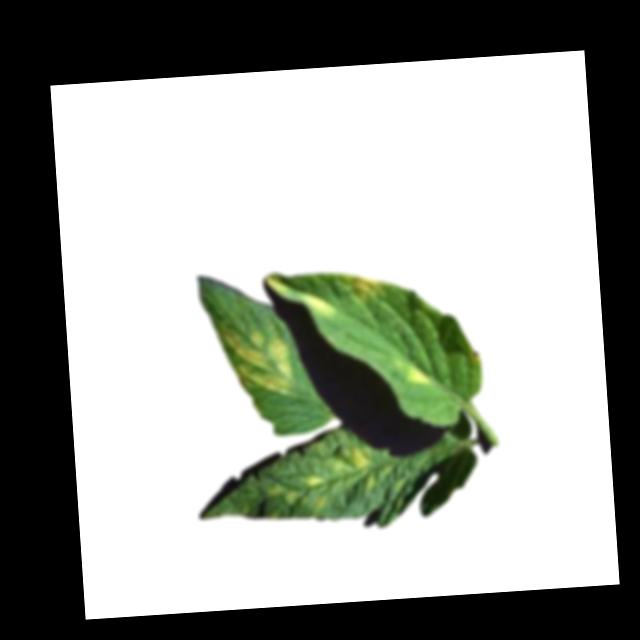Leaf_Mold: (264, 445, 379, 513), (222, 323, 293, 396), (351, 272, 388, 305), (403, 358, 432, 387), (309, 290, 337, 318)
